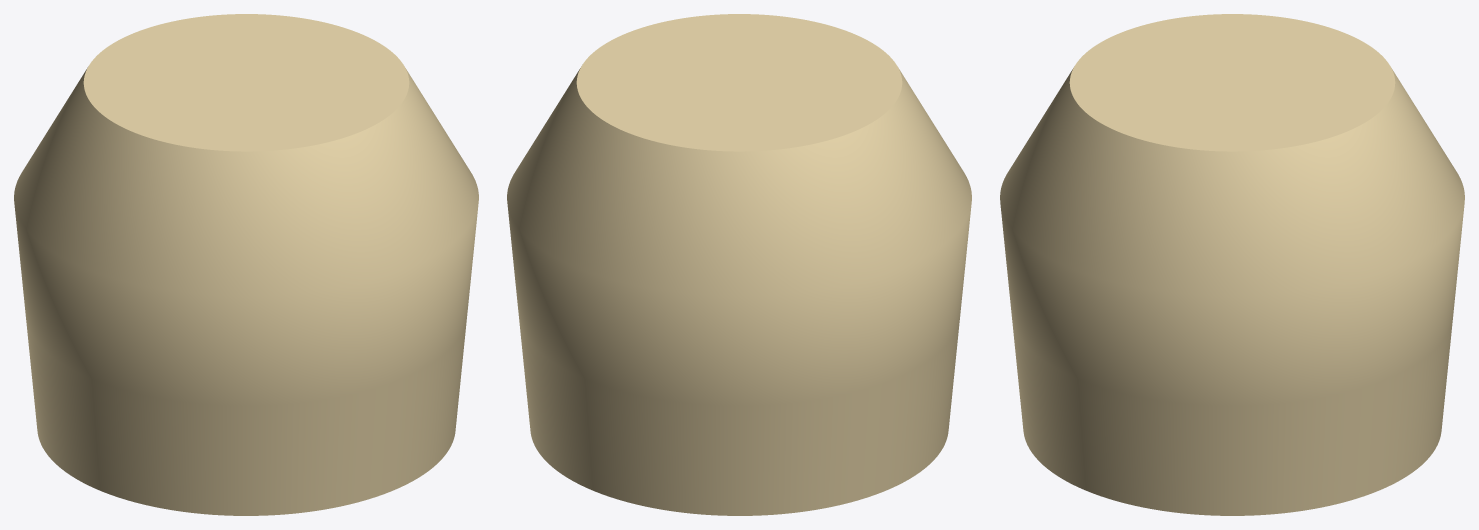
The model's file is cap.glb.
The picture shows the model from 3 angles, left to right: view 1: azimuth 30°, elevation 25°; view 2: azimuth 150°, elevation 25°; view 3: azimuth 270°, elevation 25°; orthographic projection.
Visible parts, largest first — view 1: node-0; view 2: node-0; view 3: node-0.
Part boxes in pixels (box(x1,y1,x2,y2)): node-0: box(14, 14, 478, 515); node-0: box(507, 14, 971, 515); node-0: box(1000, 14, 1464, 515).
Bounding box in the file's own units: 0.022 × 0.018 × 0.022.
